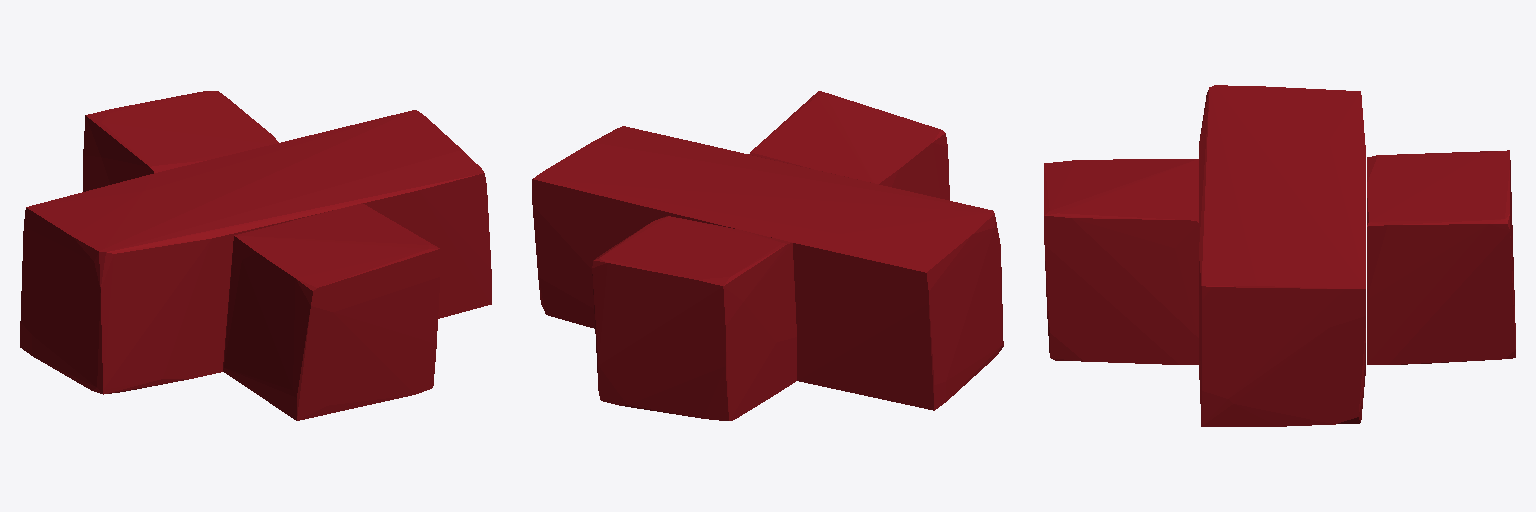
robot.urdf — blob942:
<robot name="blob942">
  <link name="random_obj_942">
    <contact>
      <lateral_friction value="1.0"/>
      <rolling_friction value="0.0"/>
      <inertia_scaling value="3.0"/>
      <contact_cfm value="0.0"/>
      <contact_erp value="1.0"/>
    </contact>
    <inertial>
      <origin rpy="0 0 0" xyz="0 0 0"/>
      <mass value="0.1"/>
      <inertia ixx="1" ixy="0" ixz="0" iyy="1" iyz="0" izz="0"/>
    </inertial>
    <visual>
      <origin rpy="0 0 0" xyz="0 0 0"/>
      <geometry>
        <mesh filename="942.obj" scale="0.015 0.015 0.015"/>
      </geometry>
      <material name="blockmat">
        <color rgba="0.58 0.12 0.15 1"/>
      </material>
    </visual>
    <collision>
      <origin rpy="0 0 0" xyz="0 0 0"/>
      <geometry>
        <mesh filename="942.obj" scale="0.015 0.015 0.015"/>
      </geometry>
    </collision>
  </link>
</robot>

--- Facts derived from the render (not from the file) ---
The picture shows the robot from 3 angles, left to right: view 1: azimuth 30°, elevation 25°; view 2: azimuth 150°, elevation 25°; view 3: azimuth 270°, elevation 25°; orthographic projection.
Model blob942 with 1 links and 0 joints (none), rooted at random_obj_942, posed every joint at zero.
Links seen in each view (by area): view 1: random_obj_942; view 2: random_obj_942; view 3: random_obj_942.
Boxes of the visible links, x1=… form: random_obj_942: x1=20, y1=91, x2=491, y2=420; random_obj_942: x1=532, y1=91, x2=1003, y2=420; random_obj_942: x1=1044, y1=85, x2=1515, y2=426.
Size in the robot's own frame: 0.0928 by 0.0917 by 0.0321 metres.
Meshes: 1 distinct files referenced, 1 mesh visuals loaded (1 OBJ).